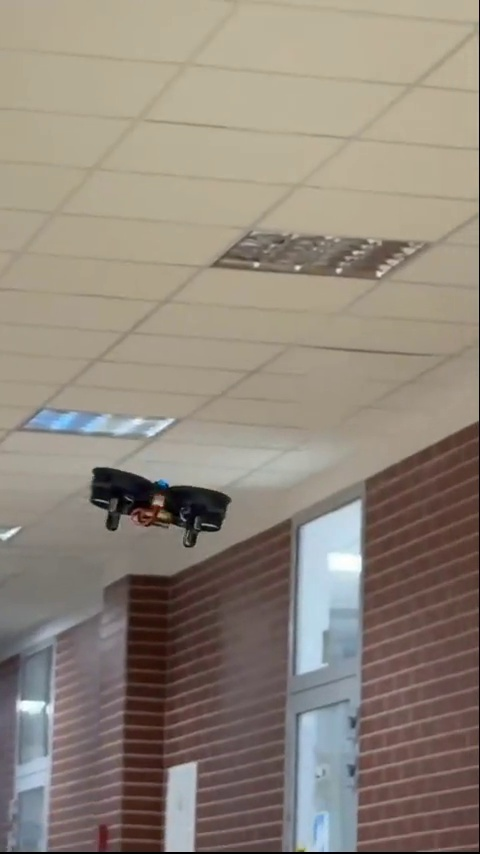drone: (86, 464, 231, 542)
